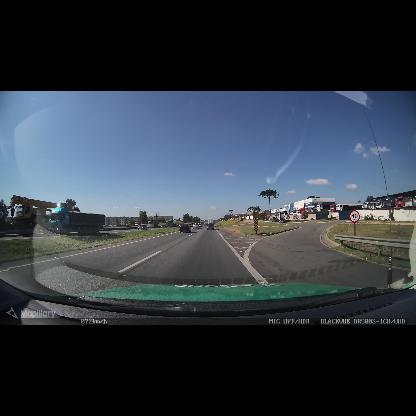O-MP: (253, 218, 258, 231)
R-19: (349, 210, 360, 223)
